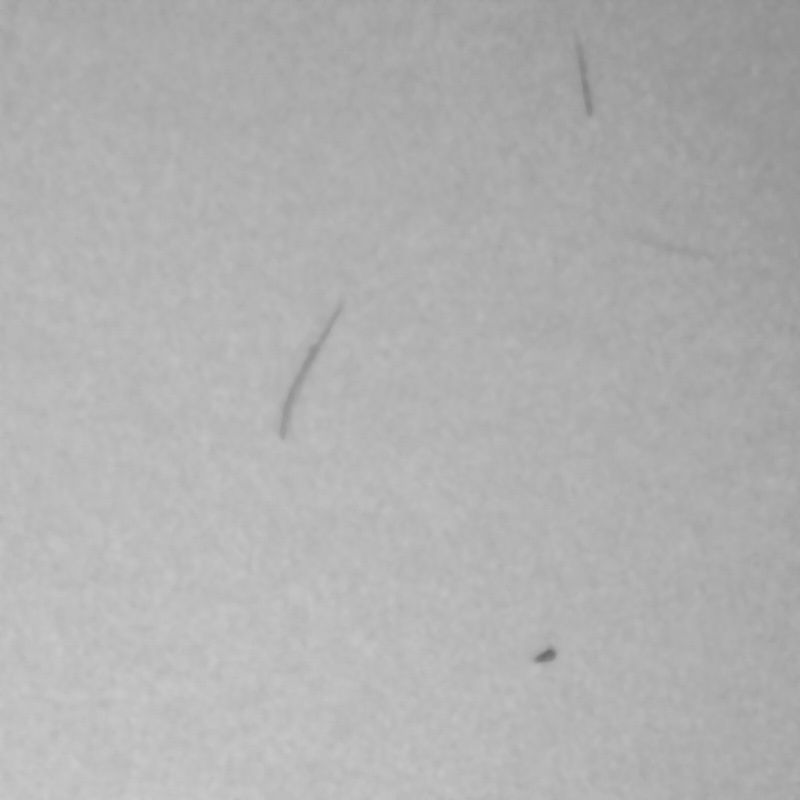defect: (276, 297, 350, 443), (568, 20, 599, 118), (531, 637, 559, 669)
